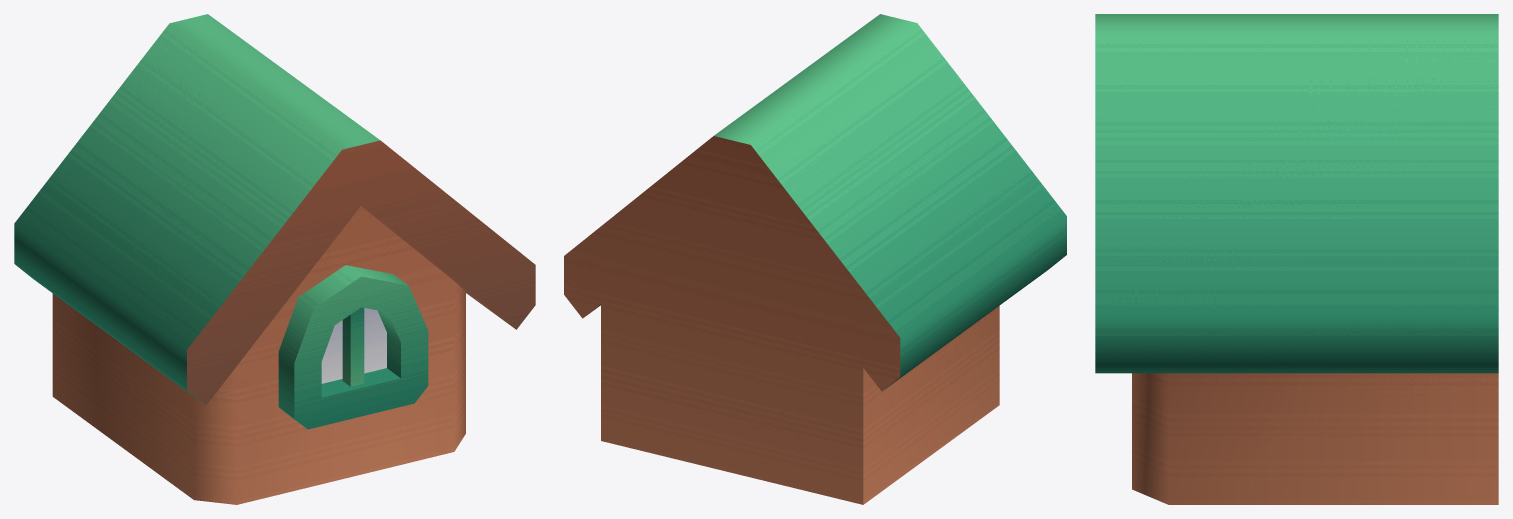
The model's file is cabin-roof-dormer.glb.
The picture shows the model from 3 angles, left to right: view 1: azimuth 30°, elevation 25°; view 2: azimuth 150°, elevation 25°; view 3: azimuth 270°, elevation 25°; orthographic projection. The views are drawn at different scales.
Parts seen in each view (by area): view 1: cabin-roof-dormer; view 2: cabin-roof-dormer; view 3: cabin-roof-dormer.
Boxes of the visible parts, x1,y1,x2,y2 form: cabin-roof-dormer: [14, 14, 535, 504]; cabin-roof-dormer: [564, 14, 1066, 504]; cabin-roof-dormer: [1095, 14, 1498, 504].
Bounding box in the file's own units: 3.85 × 3.64 × 3.3.
Materials: 1 (1 with a texture image).
